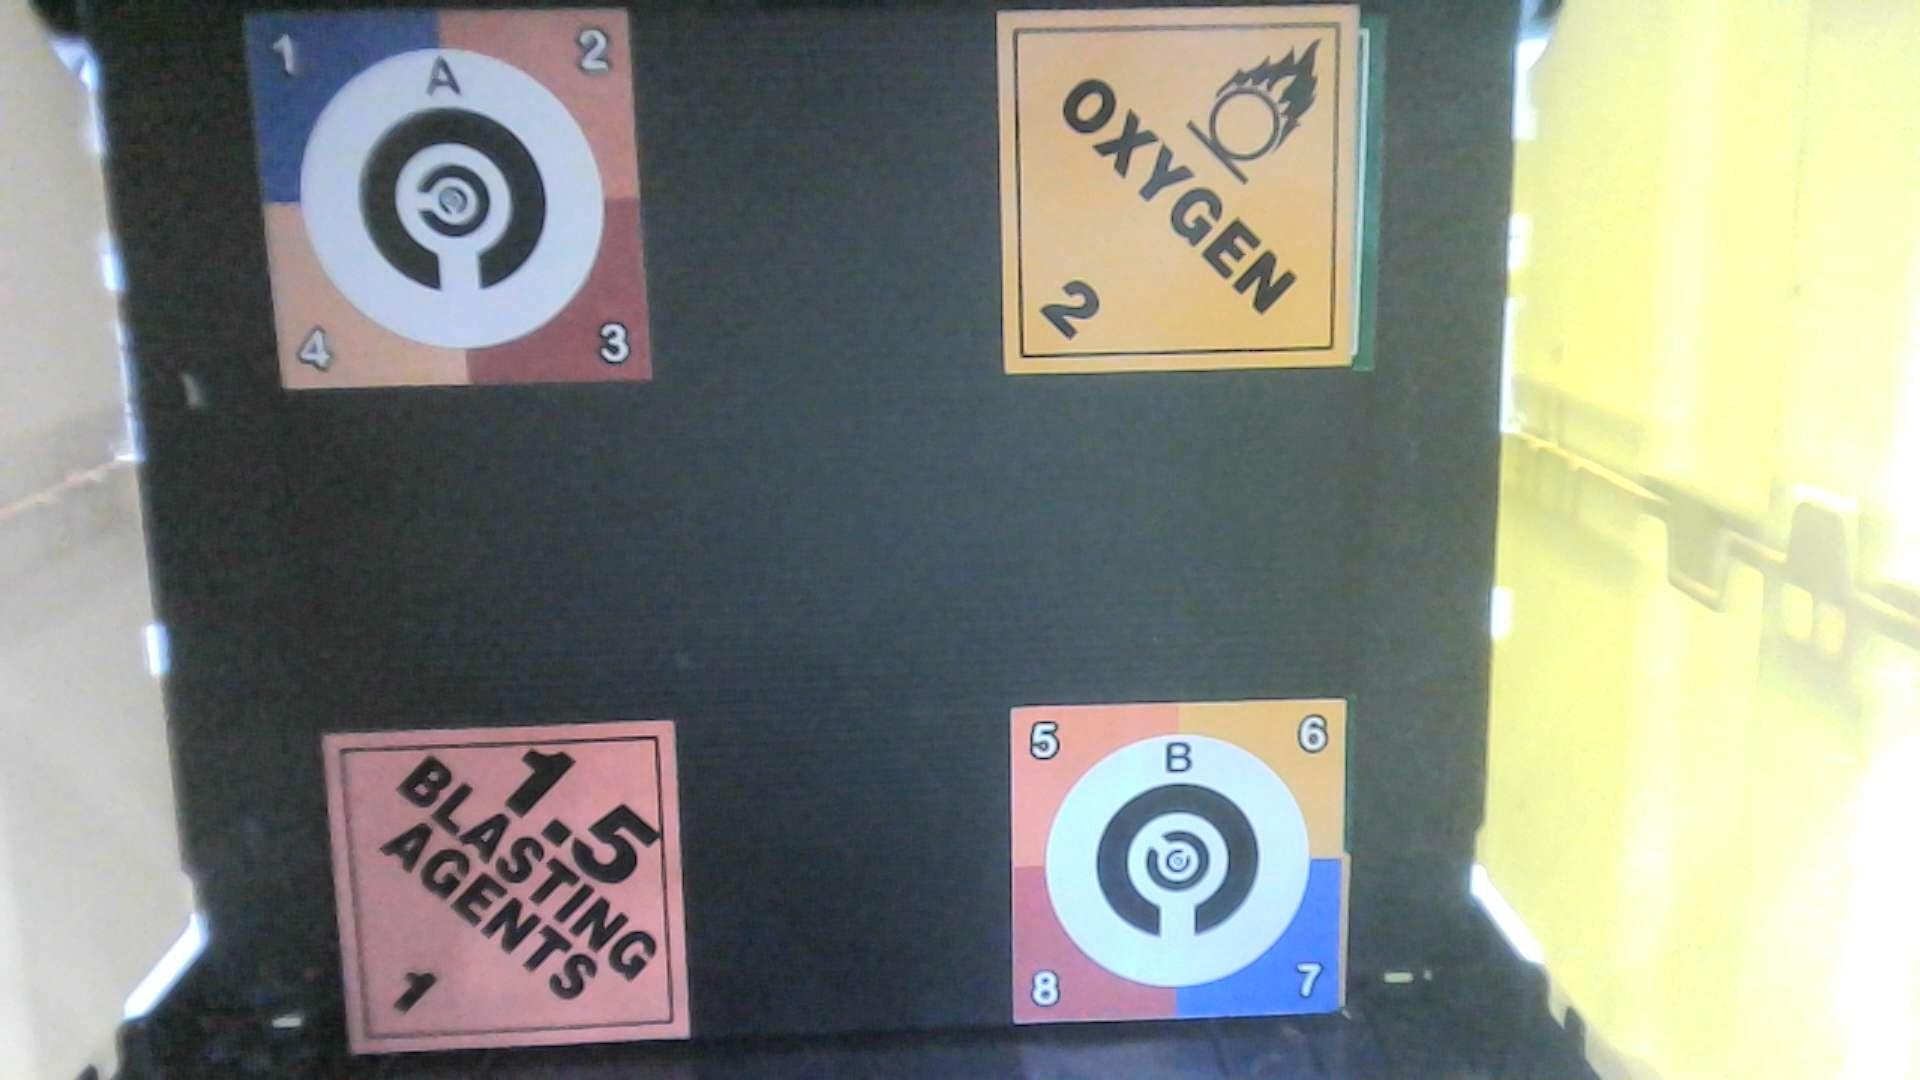explosive: (316, 707, 698, 1058)
oxidizer: (1000, 9, 1354, 369)
